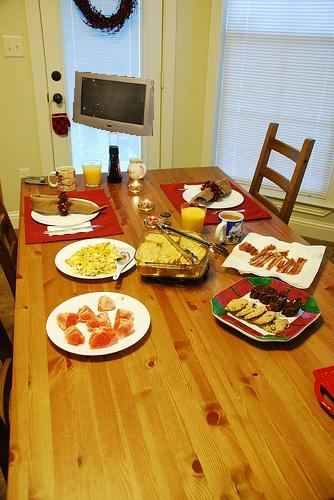tampered: (73, 72, 154, 136)
